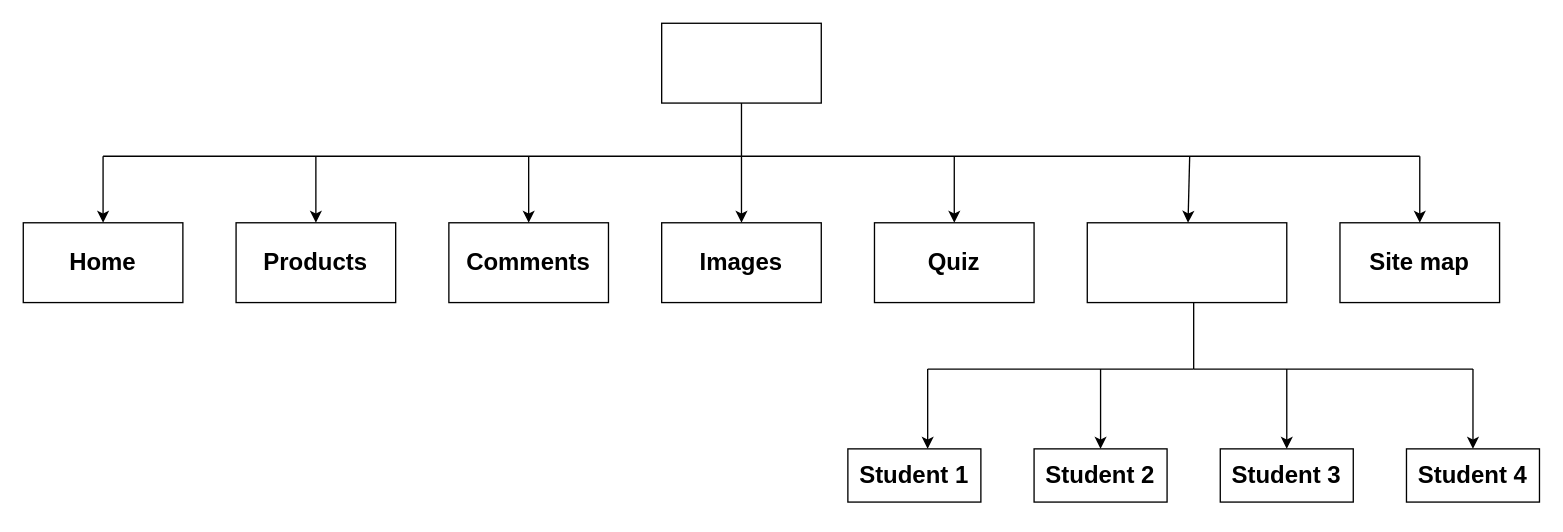
The diagram is 1563 pixels wide and 532 high, and some of its shapes have lost their labels. Each missing label, with the centre of its shape:
"Reel.lk" belongs at (x=740, y=62).
"Student Details" belongs at (x=1186, y=262).
